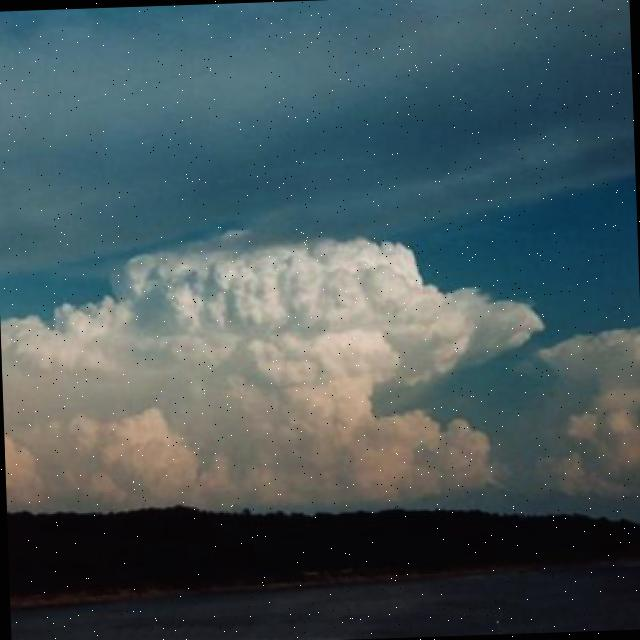As: (1, 208, 566, 479)
